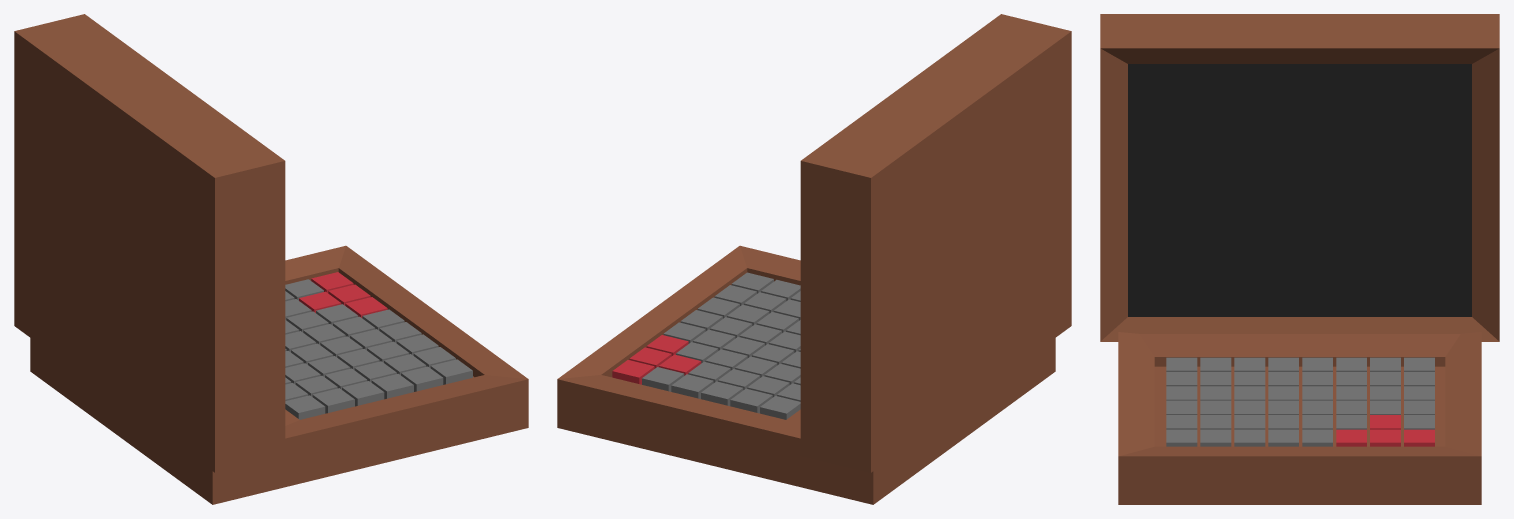
The model's file is terminal.fbx.
3 renders of one model, left to right at view 1: azimuth 30°, elevation 25°; view 2: azimuth 150°, elevation 25°; view 3: azimuth 270°, elevation 25°, orthographic.
Parts seen in each view (by area): view 1: Cube.001, Cube, Cube.002; view 2: Cube.001, Cube, Cube.002; view 3: Cube.001, Cube, Cube.002.
Part boxes in pixels (box(x1,y1,x2,y2)): Cube.001: box(14, 14, 285, 472); Cube: box(30, 245, 528, 504); Cube.002: box(285, 272, 472, 419); Cube.001: box(800, 14, 1071, 472); Cube: box(557, 245, 1055, 504); Cube.002: box(612, 272, 800, 419); Cube.001: box(1100, 14, 1499, 341); Cube: box(1118, 332, 1481, 504); Cube.002: box(1166, 357, 1434, 446).
Size of the model in its own units: 113 by 112 by 121.
